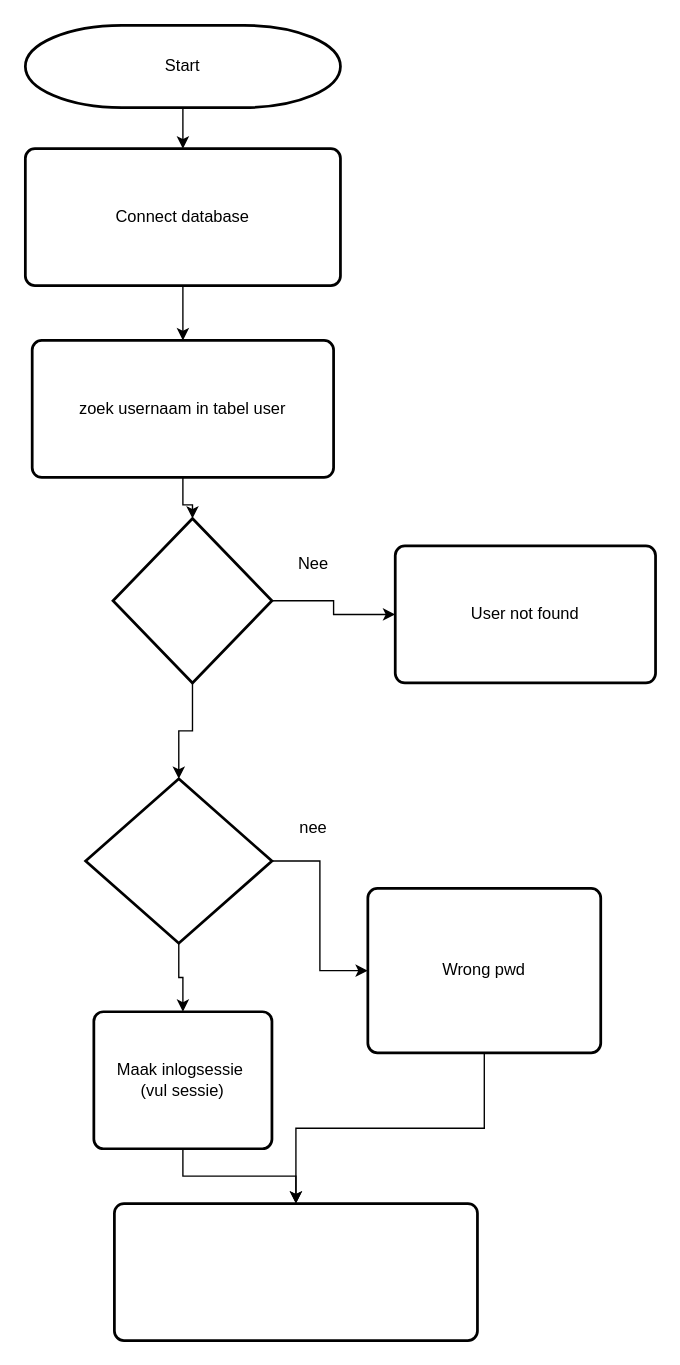
Image size: 680x1365. Some labels were removed from this diagram. Each missing label, with the centre of its shape:
"End" belongs at (x=295, y=1271).
"Gevonden?" belongs at (x=192, y=600).
"is ingevoerd pwd = pwd_db" belongs at (x=178, y=860).
